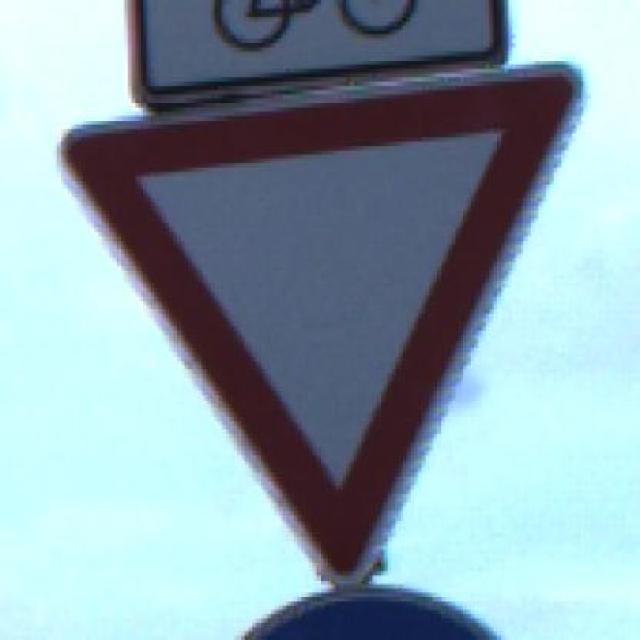Give Way: (60, 60, 614, 597)
